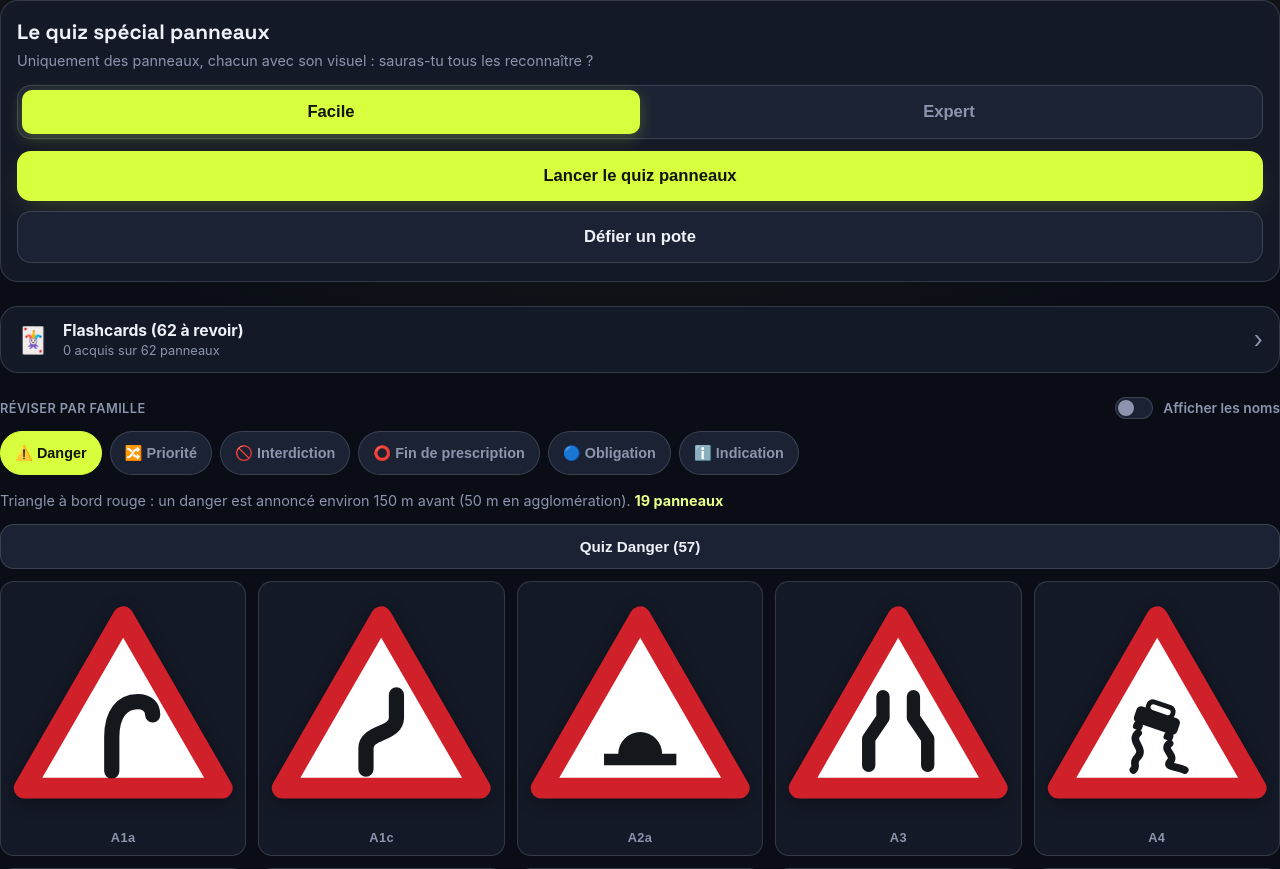
PanneauxRevision : fiche <Dialog> › ouvre la fiche dans la modale commune, nommée par le titre, focus sur la carte, défilement verrouillé
Step 1. Click the button with class "fam-chip" showing "🔀 Priorité" → click(161, 453), box [110,431,212,475]
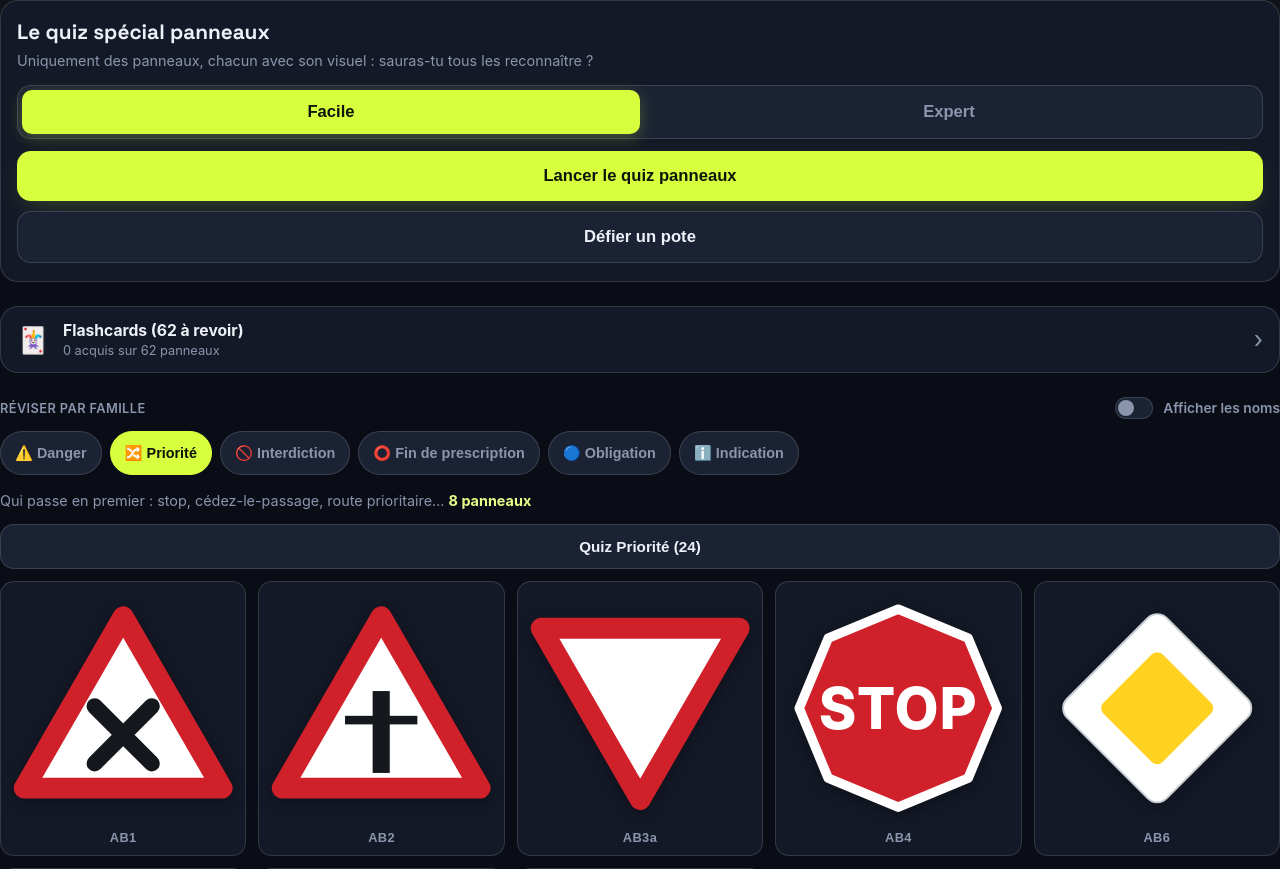
Step 2. Click the button "AB1" → click(123, 719), box [0,581,246,856]
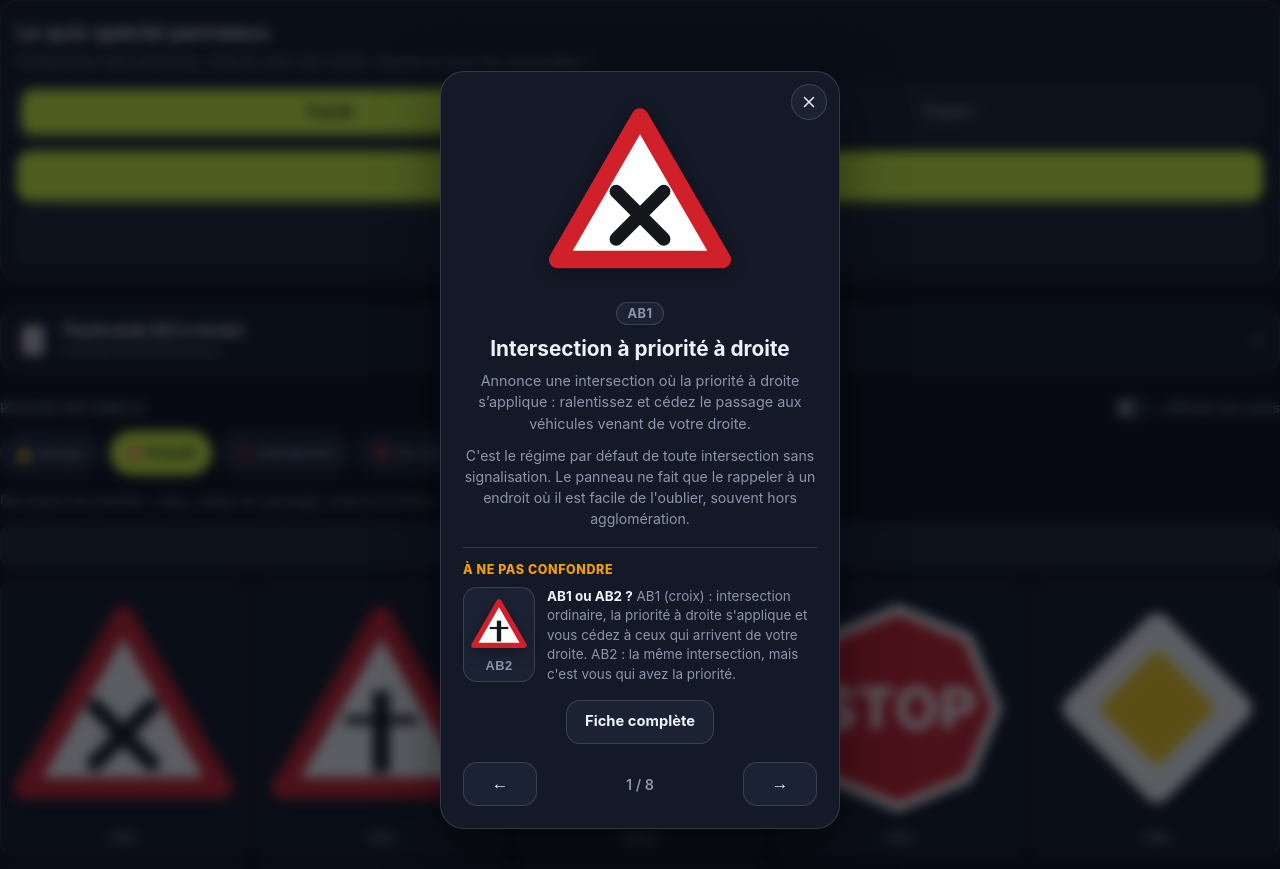
Expected: the 1st icon is shown, [800,93,818,111]
Expected: the heading "Intersection à priorité à droite" is shown, [490,336,790,361]
Expected: the button named "Fermer" is empty, [791,84,827,120]
